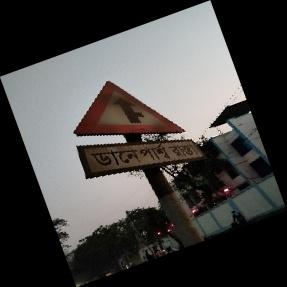Side-road-right: (73, 81, 204, 182)
